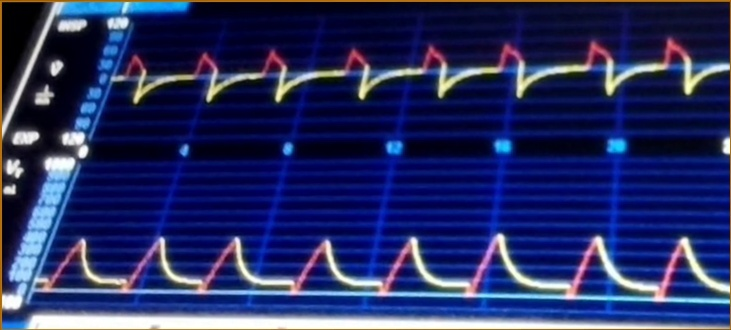Flow: (123, 27, 731, 133)
Leakage Volume: (38, 226, 731, 311)
